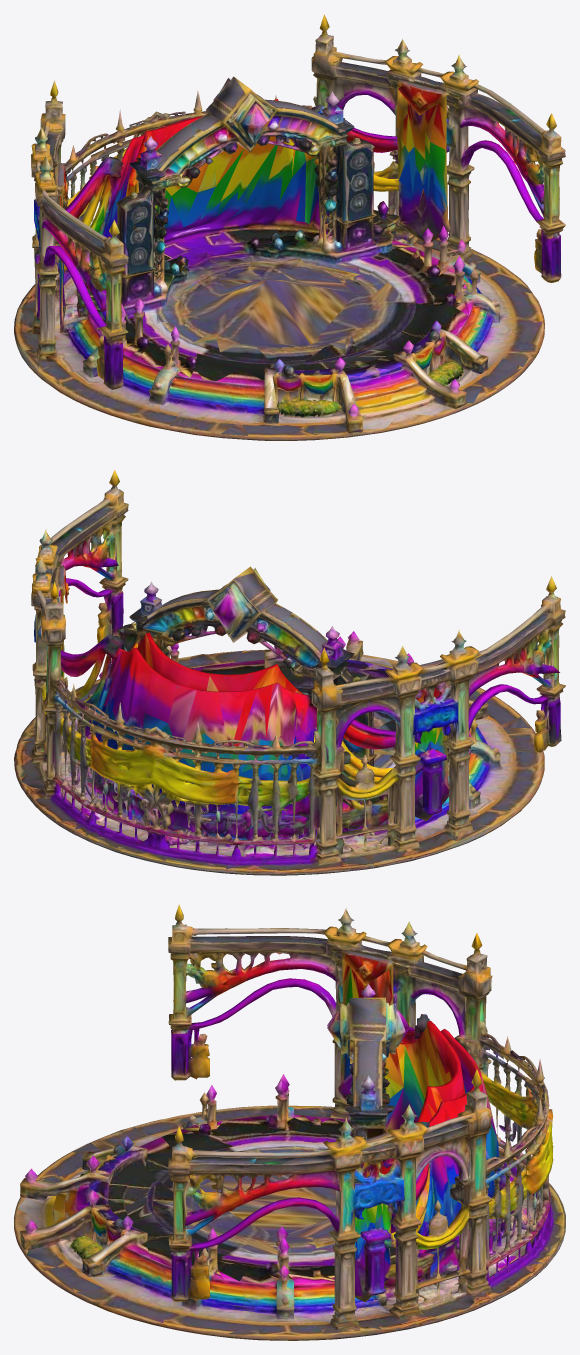
File: Rainbow_Stage.glb
3 renders of one model, top to bottom at view 1: azimuth 30°, elevation 25°; view 2: azimuth 150°, elevation 25°; view 3: azimuth 270°, elevation 25°, orthographic. The views are drawn at different scales.
Visible parts, largest first — view 1: Rainbow_Stage; view 2: Rainbow_Stage; view 3: Rainbow_Stage.
Boxes of the visible parts, <box> form: Rainbow_Stage: <box>14,14,565,440</box>; Rainbow_Stage: <box>14,470,565,875</box>; Rainbow_Stage: <box>14,904,565,1340</box>.
Bounding box in the file's own units: 1.9 × 0.8607 × 1.9.
Materials: 1 (1 with a texture image).
